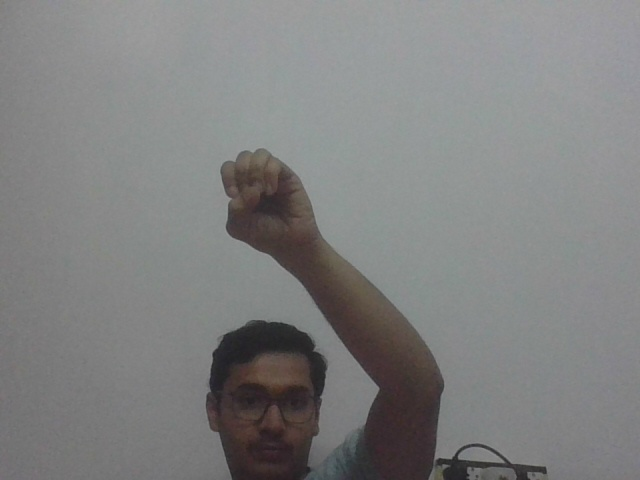O: (214, 148, 317, 251)
